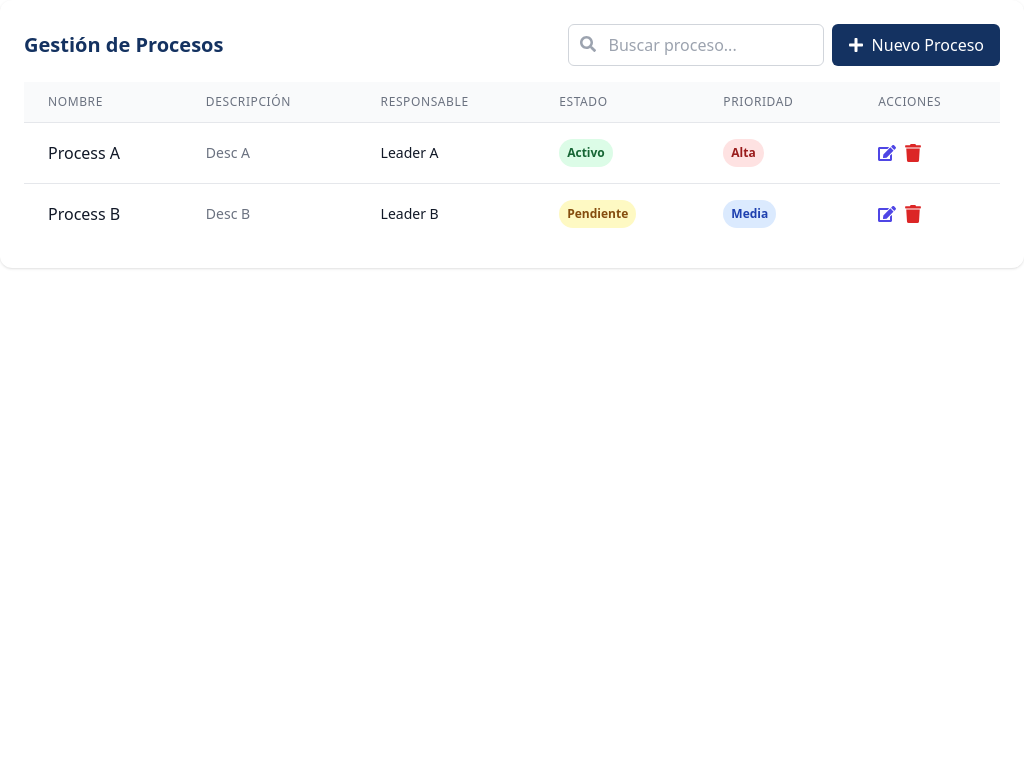
Test: ProcessManagement › should delete process with confirmation
Expected: the text "Process A" is shown, [48, 142, 120, 164]
Click the 3rd button at (913, 153), box [904, 144, 922, 162]
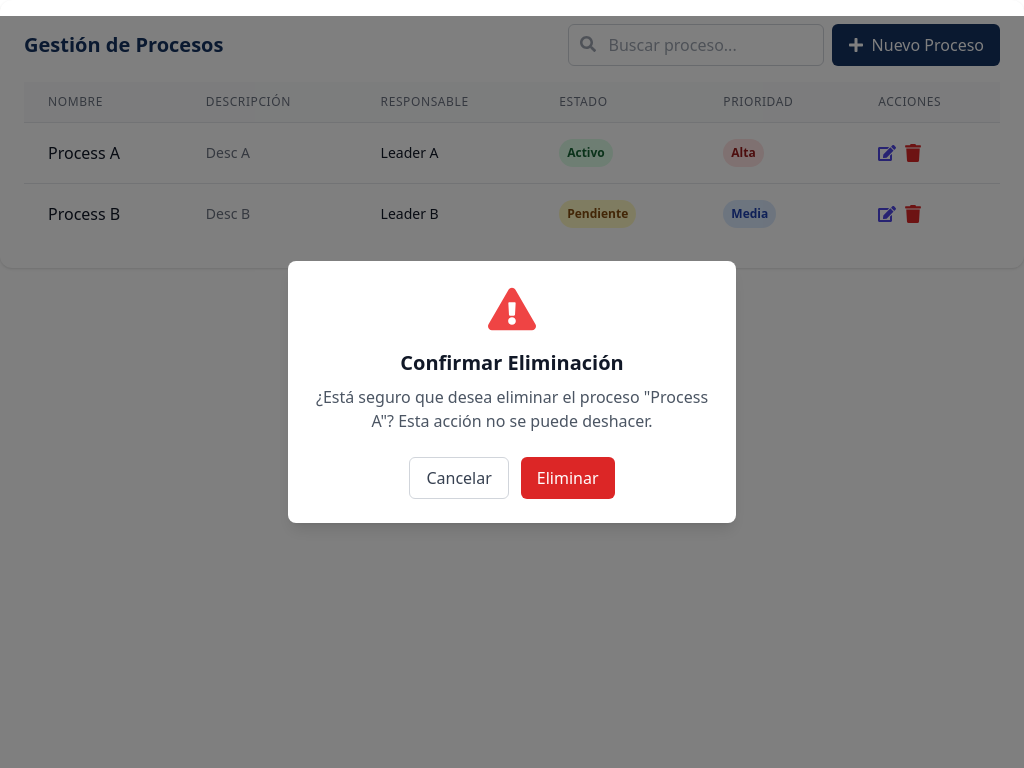
Expected: the heading "Confirmar Eliminación" is shown, [400, 349, 624, 377]
Expected: the text "¿Está seguro que desea eliminar el proceso \"Process A\"?" is shown, [312, 385, 712, 433]
Click the button "Eliminar" at (568, 478), box [521, 457, 614, 499]
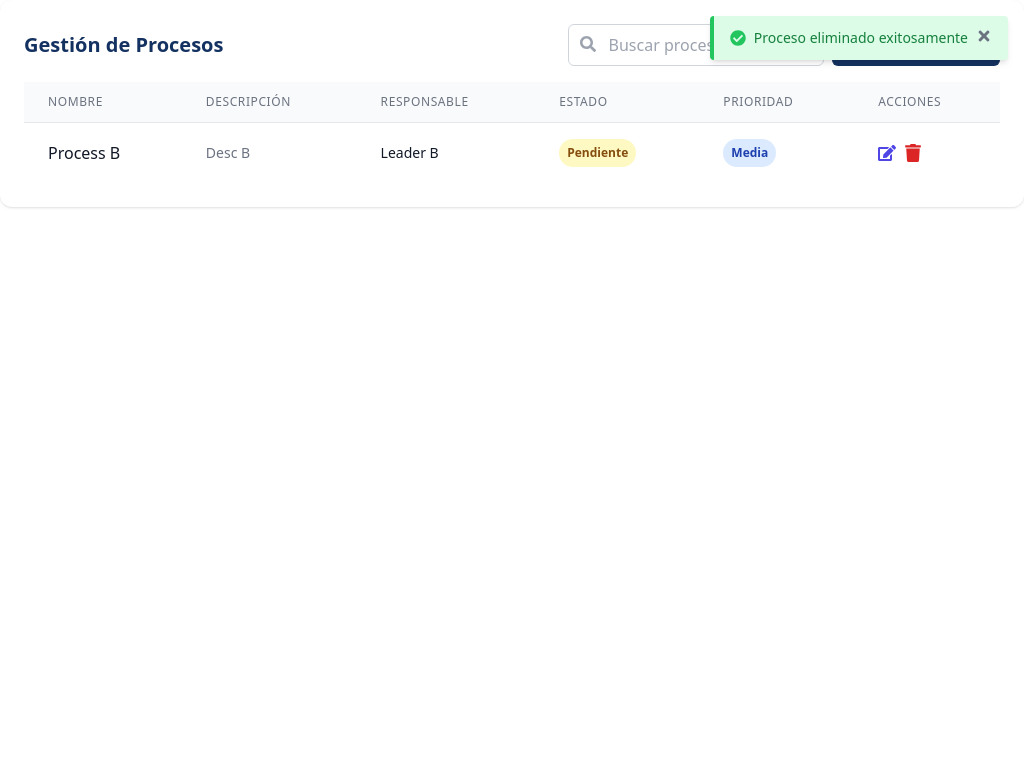
Expected: the text "Process A" is gone
